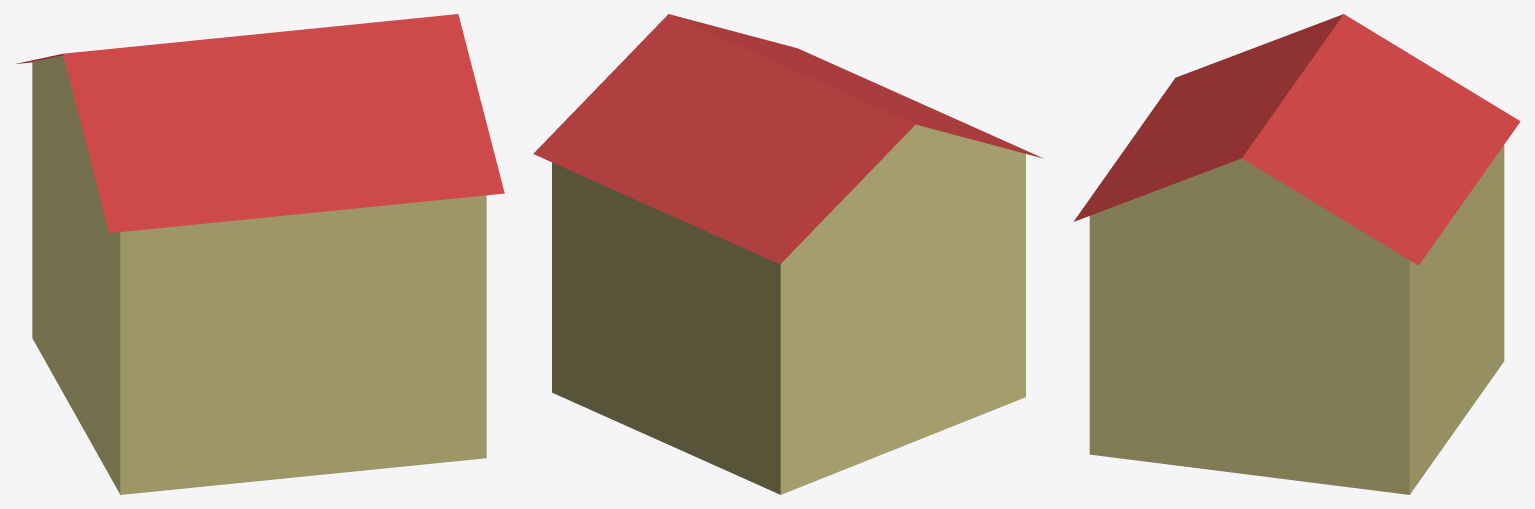
3 renders of one model, left to right at view 1: azimuth 30°, elevation 25°; view 2: azimuth 150°, elevation 25°; view 3: azimuth 270°, elevation 25°, orthographic. The views are drawn at different scales.
Visible parts, largest first — view 1: group_5, group_3, group_4; view 2: group_5, group_3, group_4; view 3: group_5, group_3, group_4.
Boxes of the visible parts, bbox=[...] form: group_5: bbox=[32, 55, 486, 494]; group_3: bbox=[16, 14, 504, 232]; group_4: bbox=[63, 14, 501, 232]; group_5: bbox=[552, 124, 1025, 494]; group_3: bbox=[552, 14, 1024, 249]; group_4: bbox=[533, 14, 1043, 264]; group_5: bbox=[1089, 145, 1504, 494]; group_3: bbox=[1073, 14, 1503, 252]; group_4: bbox=[1075, 14, 1520, 265].
Size of the model in its own units: 16.78 by 16.88 by 13.37.
